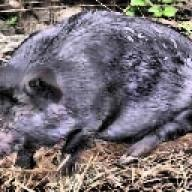boar: (0, 6, 192, 176)
